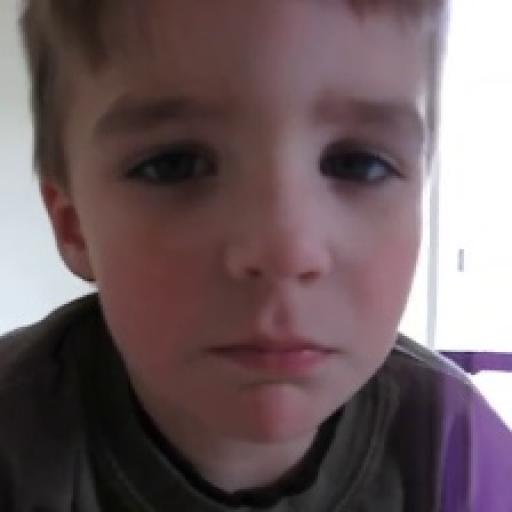Autism: (29, 1, 432, 467)
